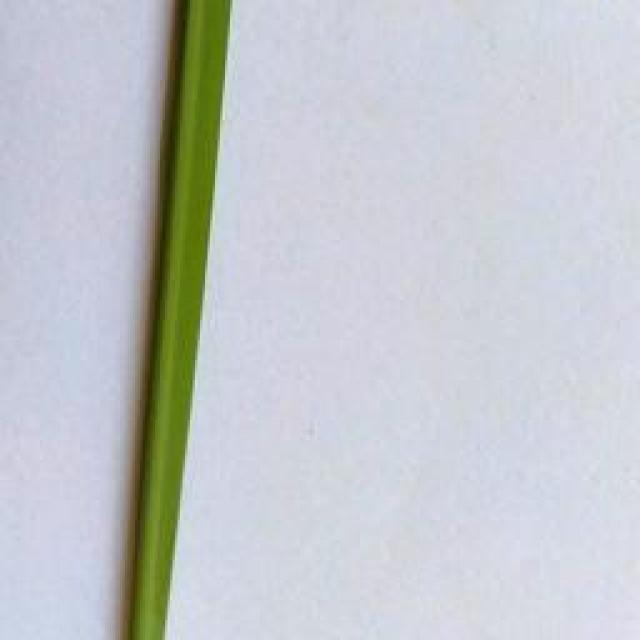Healthy-Plant: (130, 0, 234, 640)
